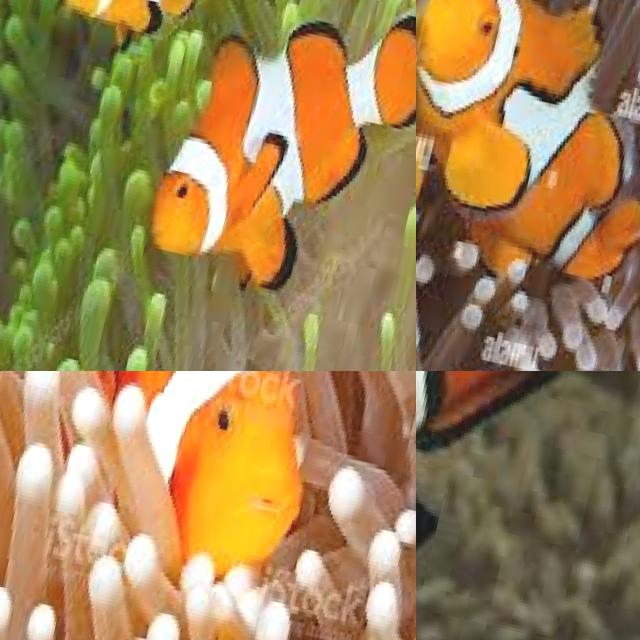Amphiprion-percula: (119, 0, 416, 356), (0, 371, 390, 597), (416, 0, 640, 321), (416, 38, 606, 371), (416, 371, 640, 640), (0, 0, 257, 109)
